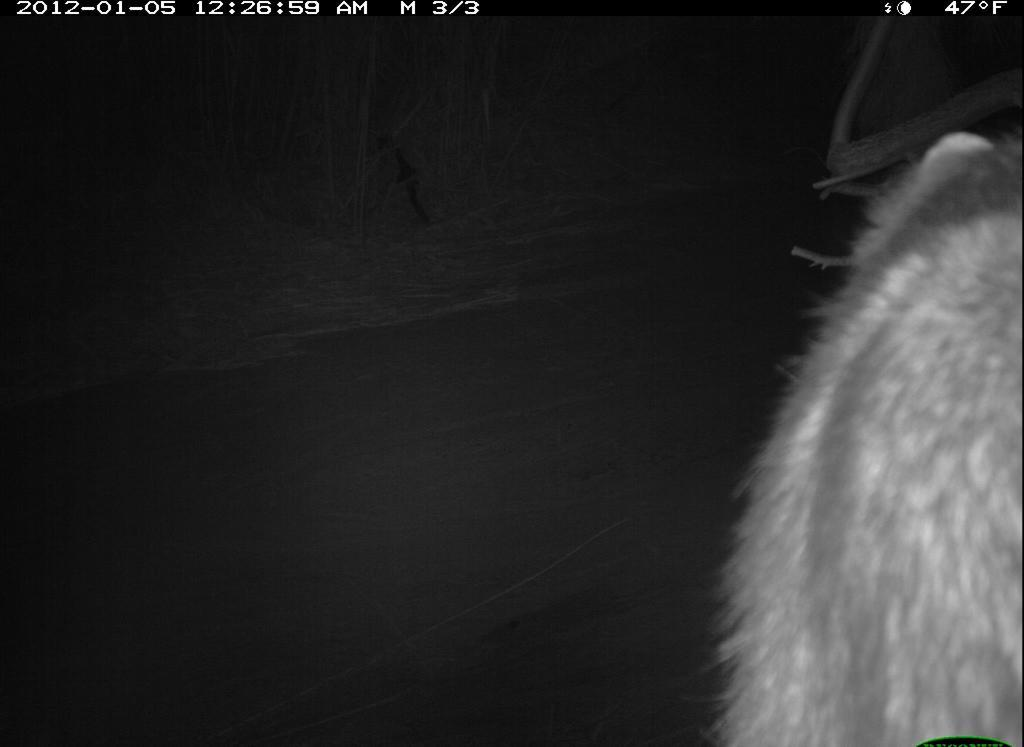raccoon: (710, 112, 1021, 747)
